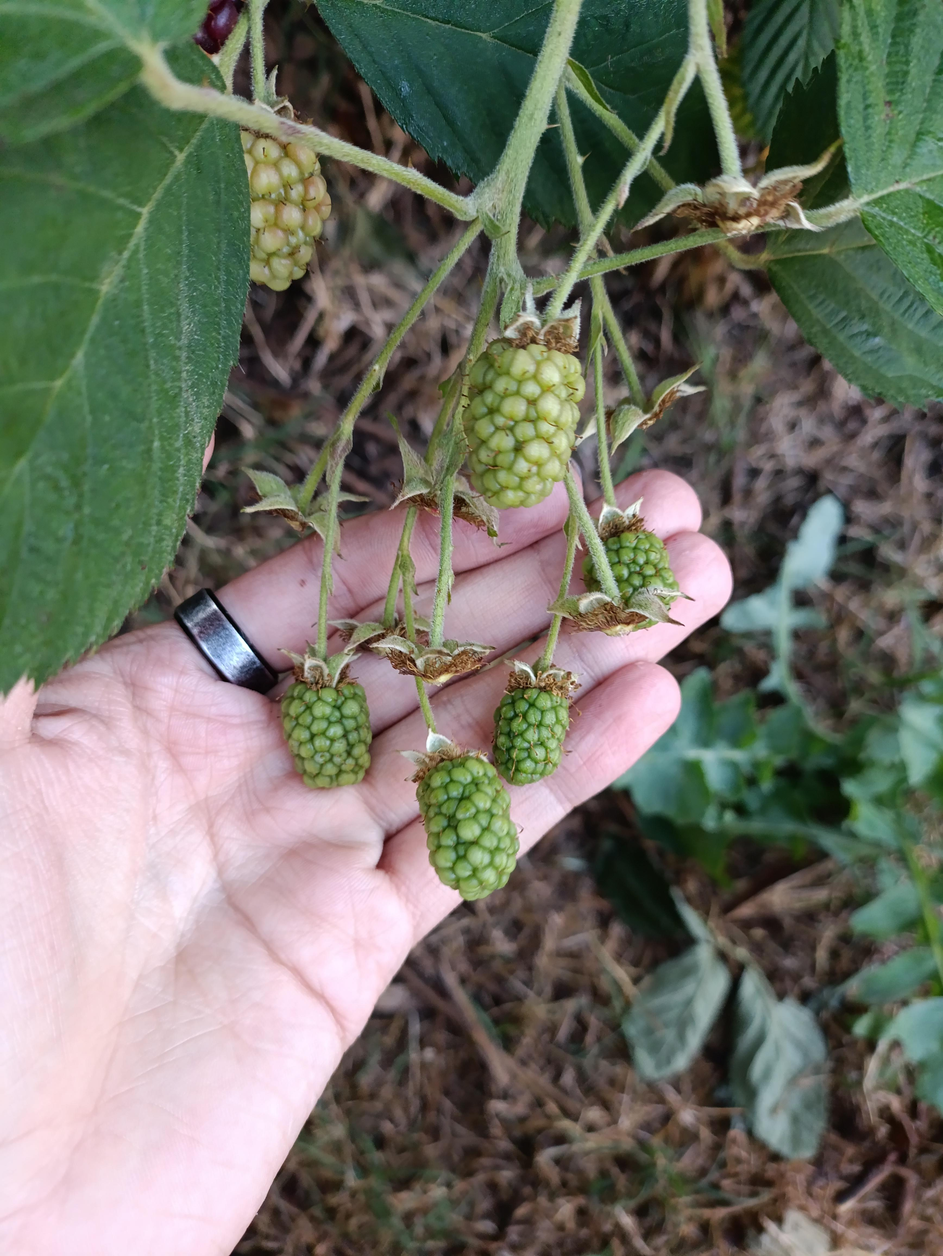verde: (464, 340, 585, 506), (417, 754, 518, 899), (281, 668, 372, 789), (493, 669, 570, 785)
